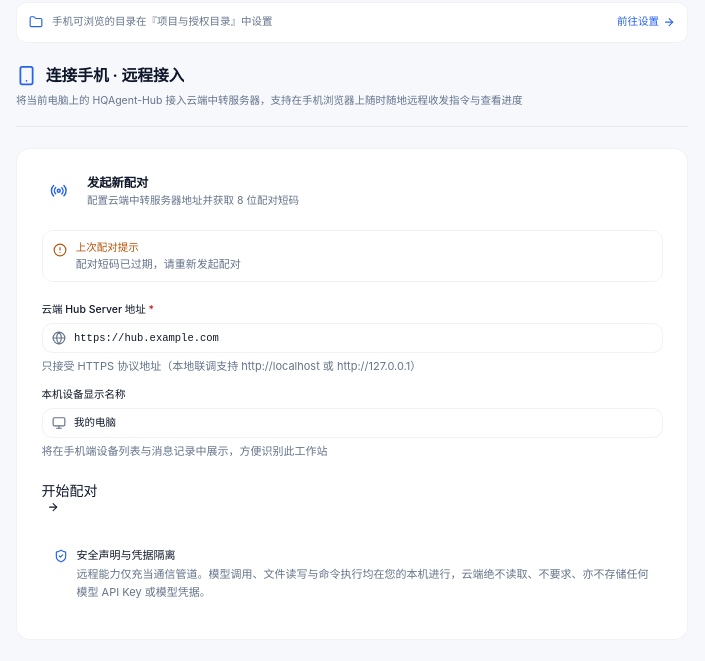
Scenario: RemoteLinkPage & RemoteLinkStore › renders unpaired state, validates serverOrigin, and displays last error if present
The width and height of the screenshot is (705, 661).
// Validate invalid origin
Replace the text in the field below "云端 Hub Server 地址" with "http://invalid-plain-http.com" at (352, 338), box [42,323,662,353]
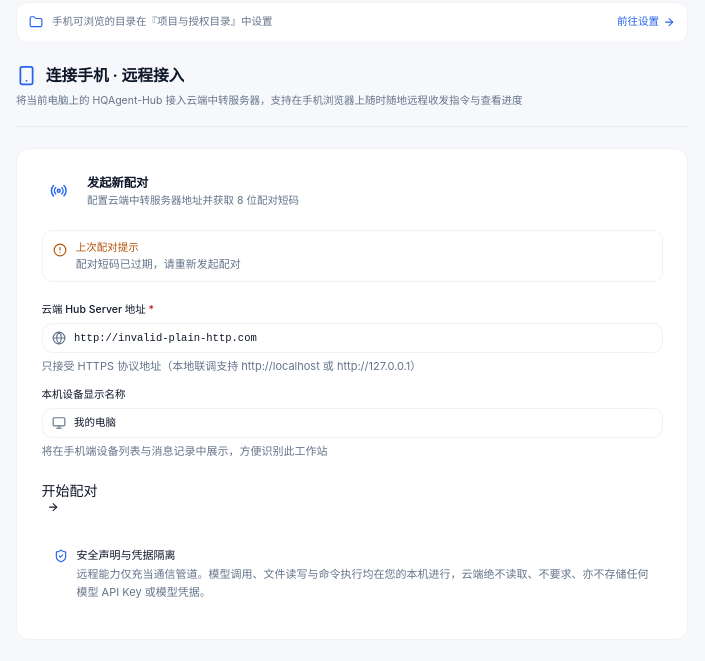
Submit the form, box [42,303,662,514]
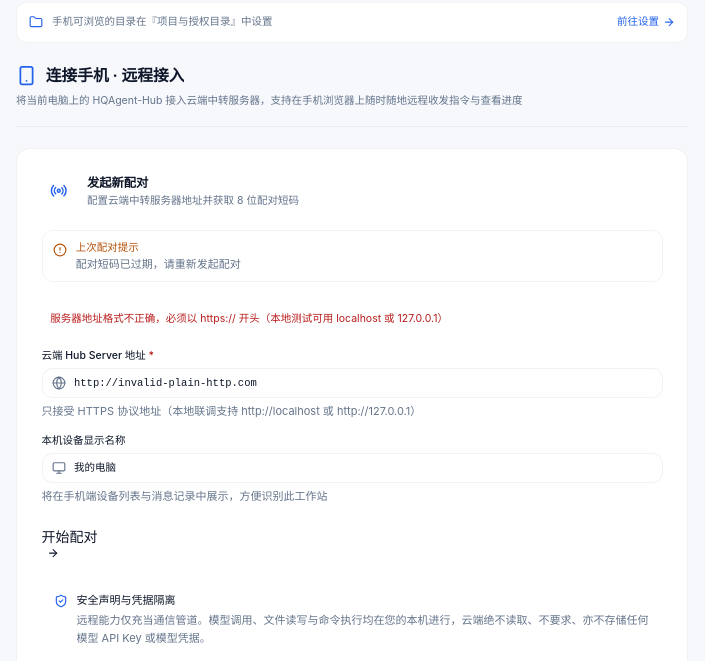
Now the text "服务器地址格式不正确" is shown, box [50,312,448,325]
